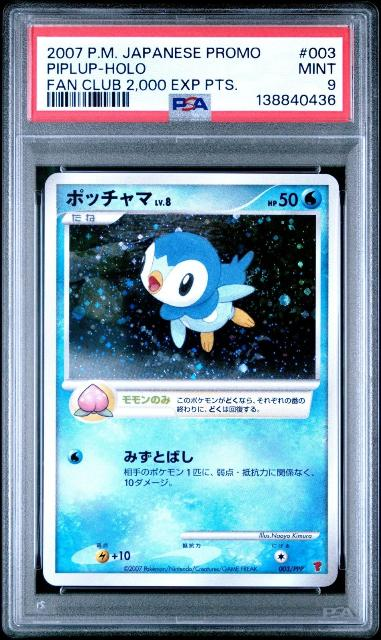Card: (40, 169, 343, 591)
Name: (64, 185, 175, 211)
